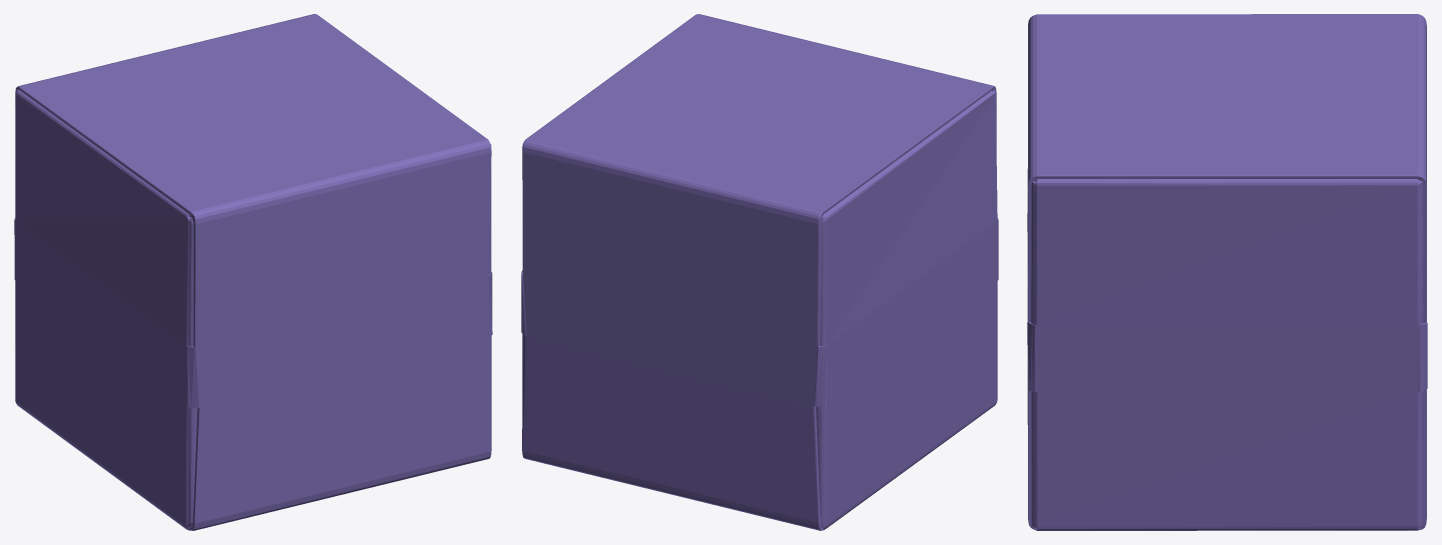
The model's file is box_cardboard_b03.glb.
3 renders of one model, left to right at view 1: azimuth 30°, elevation 25°; view 2: azimuth 150°, elevation 25°; view 3: azimuth 270°, elevation 25°, orthographic. The views are drawn at different scales.
Parts seen in each view (by area): view 1: geometry_0; view 2: geometry_0; view 3: geometry_0.
Boxes of the visible parts, bbox=[...] form: geometry_0: bbox=[14, 14, 492, 530]; geometry_0: bbox=[521, 14, 998, 530]; geometry_0: bbox=[1027, 14, 1427, 530].
Size of the model in its own units: 0.4704 by 0.4701 by 0.48.
